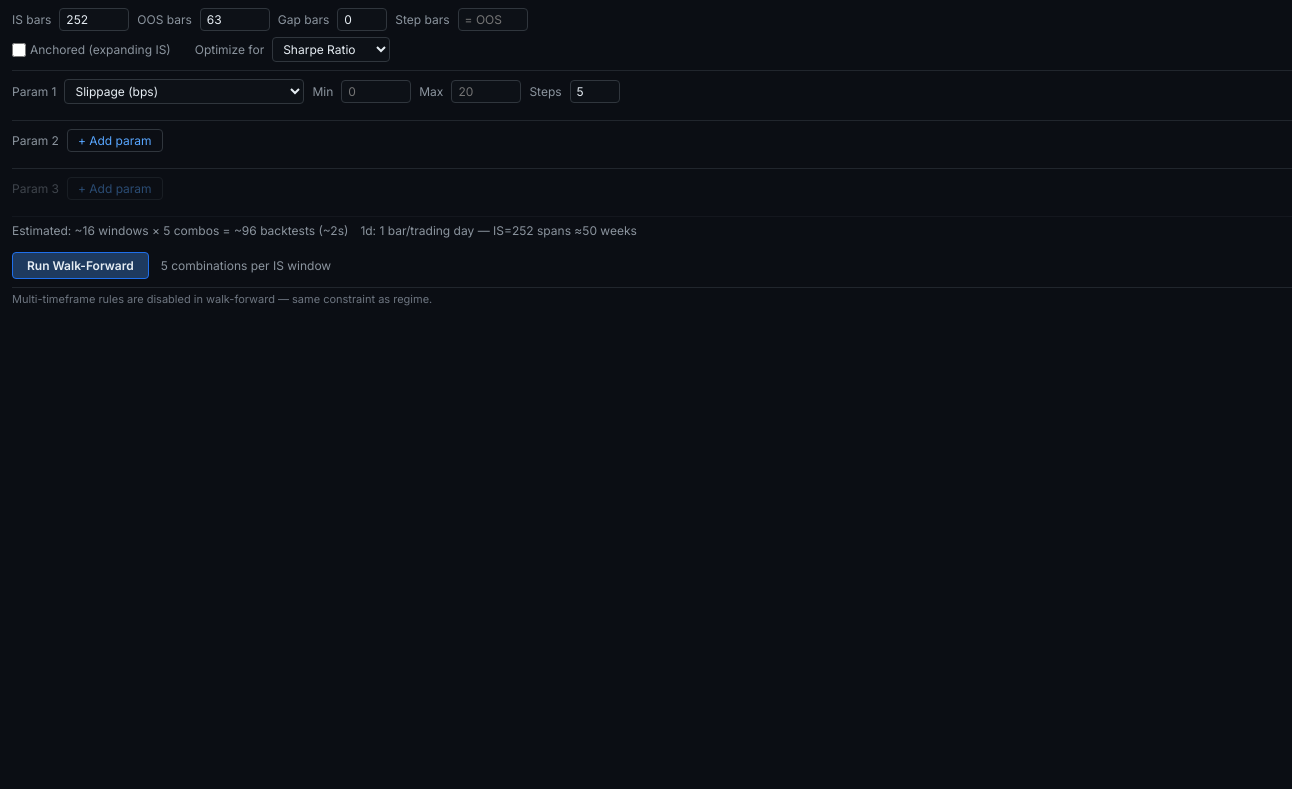
Test case: WalkForwardPanel › interpretation callout shows correct text for low IS trades
What coordinates should you click on to do the following:
click the button "Run Walk-Forward"
I would click on:
 (80, 266)
Its box is [12, 252, 149, 279].
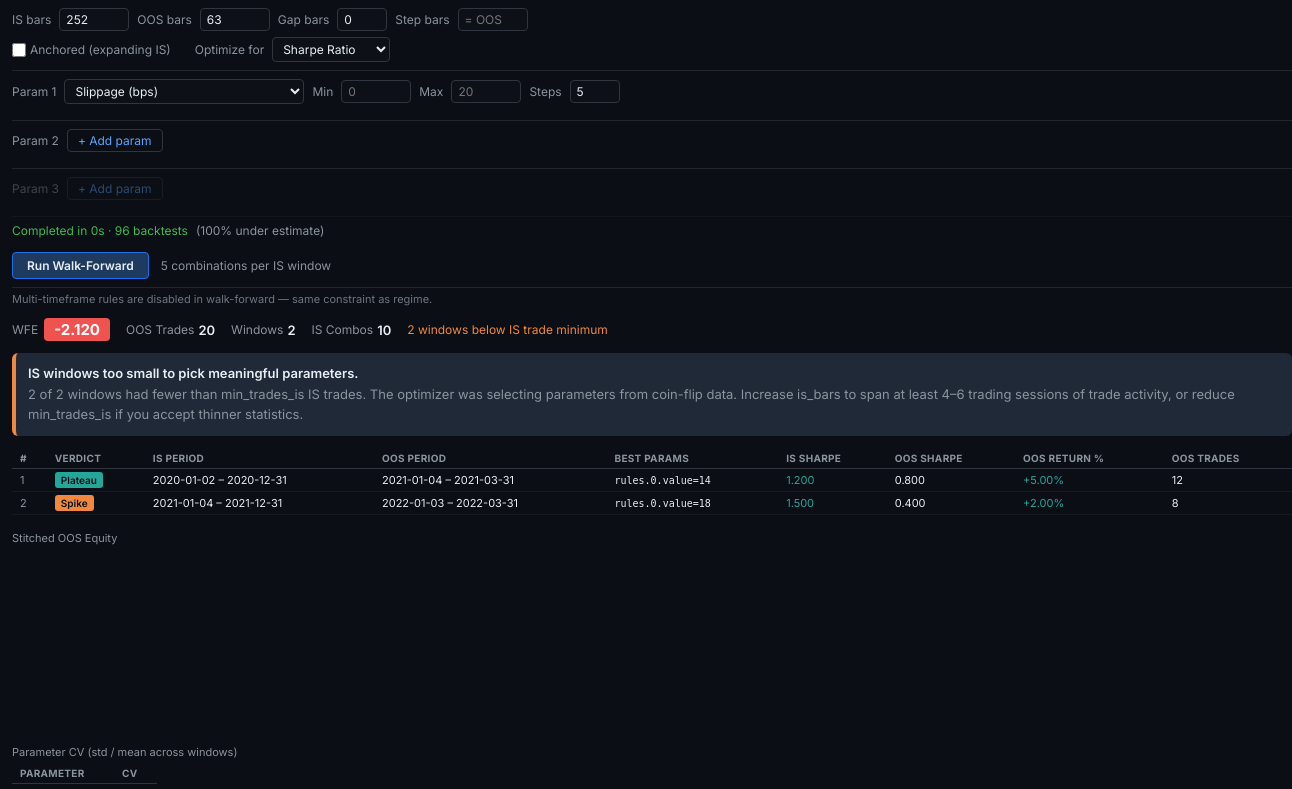
Expected: the text "WFE" is shown, [12, 322, 38, 337]
Expected: the text "IS windows too small to pick meaningful parameters." is shown, [28, 365, 358, 381]
